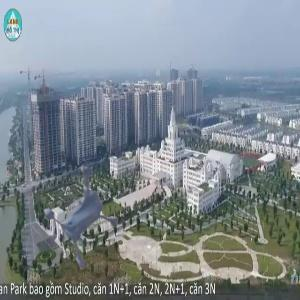drone: (23, 147, 135, 259)
